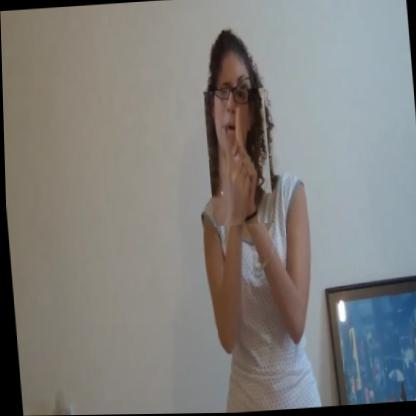NiceToMeetYou: (203, 88, 273, 227)
